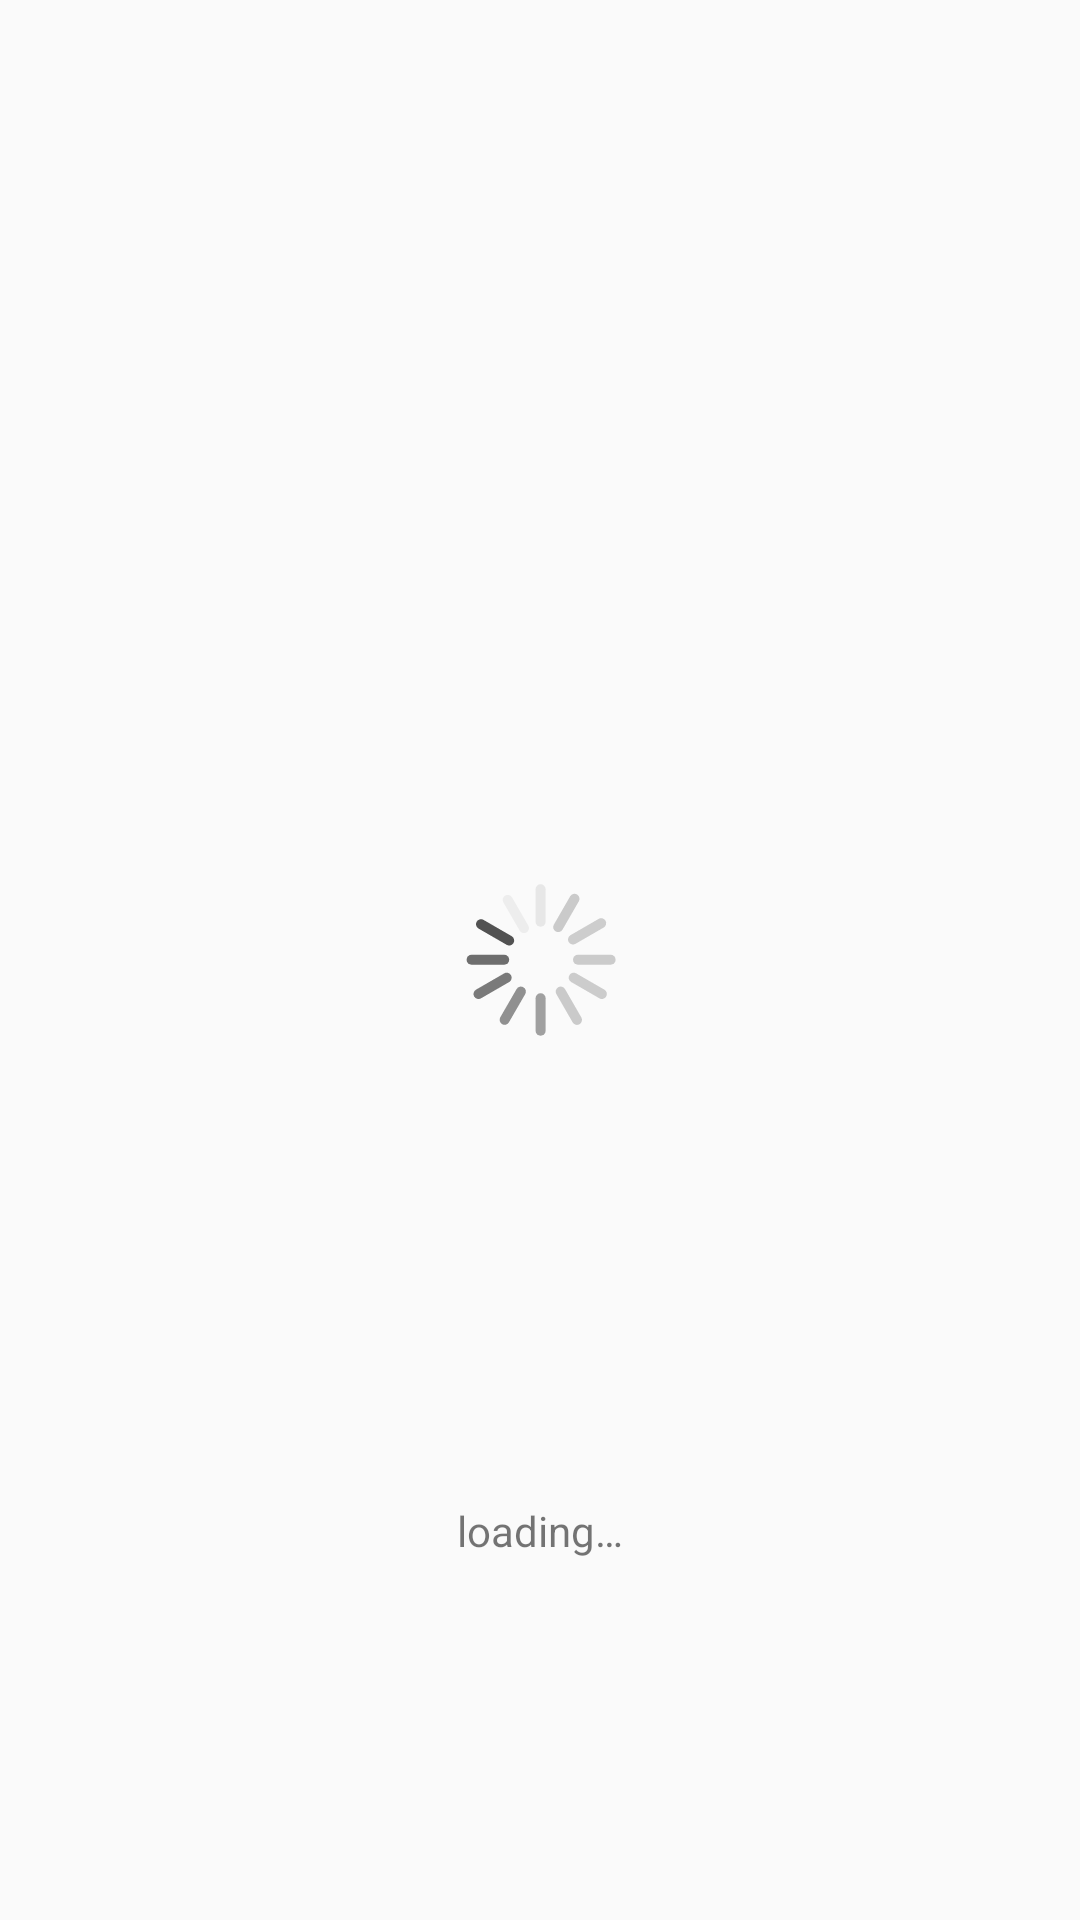

Icons on this 1080px×1920px Android screen, each with its box as (left=x1, top=y1, right=x2, bottom=y2):
loading…: (left=466, top=894, right=616, bottom=1036)
